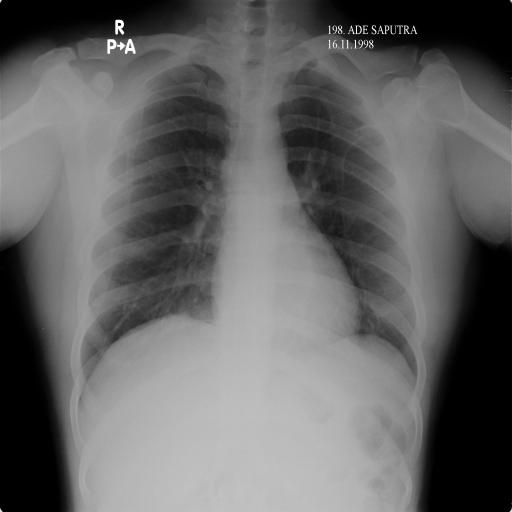normal: (64, 22, 433, 407)
